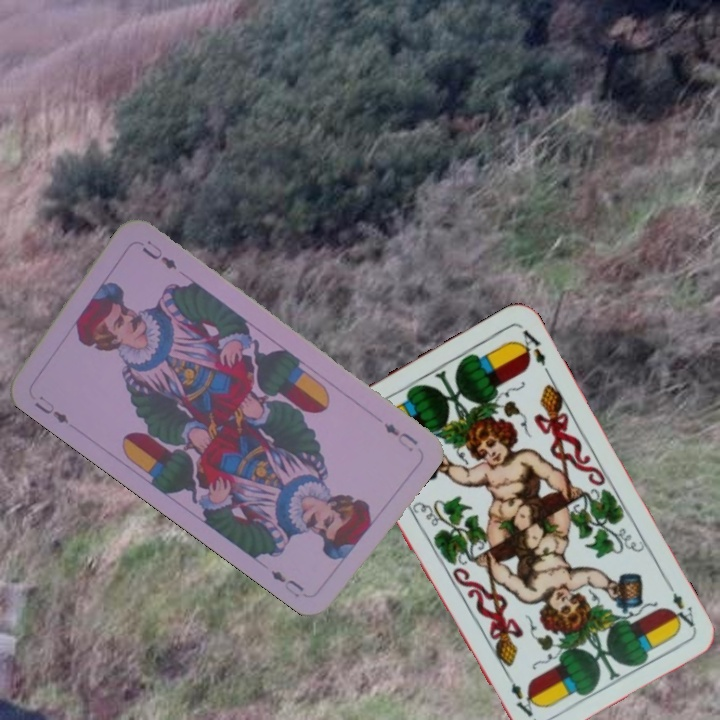EA: (661, 577, 697, 630)
EU: (30, 391, 72, 427), (379, 419, 421, 455)
